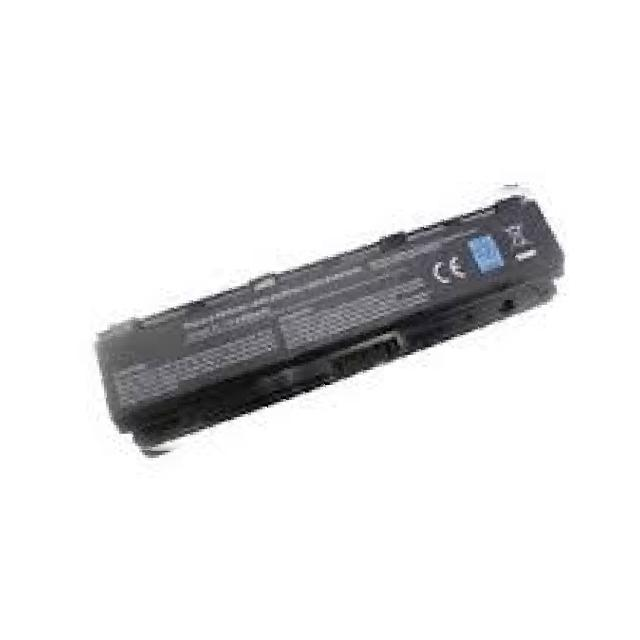Battery: (48, 184, 594, 472)
